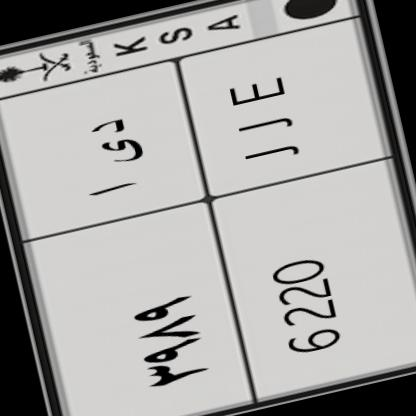english: (168, 10, 416, 404)
